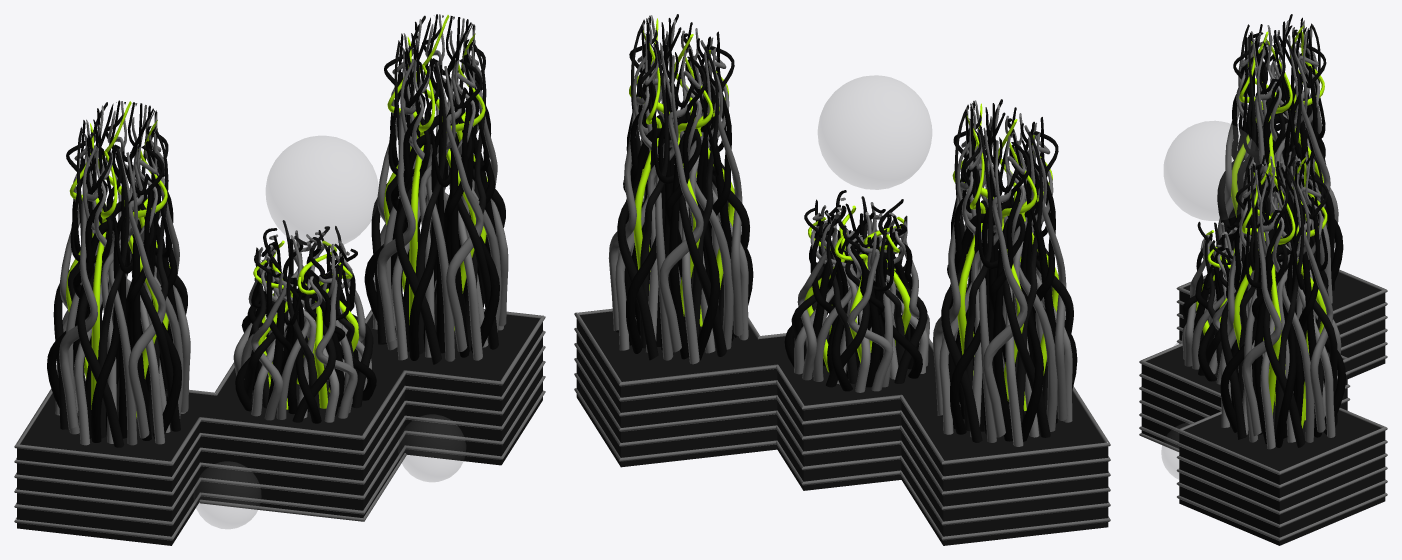
Rendered from 0FF-BLCK-v4.glb.
3 renders of one model, left to right at view 1: azimuth 30°, elevation 25°; view 2: azimuth 150°, elevation 25°; view 3: azimuth 270°, elevation 25°, orthographic. The views are drawn at different scales.
Parts seen in each view (by area): view 1: BLCK.001; view 2: BLCK.001; view 3: BLCK.001.
Boxes of the visible parts, <box> form: BLCK.001: <box>14,14,545,545</box>; BLCK.001: <box>574,14,1110,545</box>; BLCK.001: <box>1139,14,1387,545</box>.
Bounding box in the file's own units: 7.45 × 5.34 × 3.41.
Materials: 2 (1 with a texture image).
